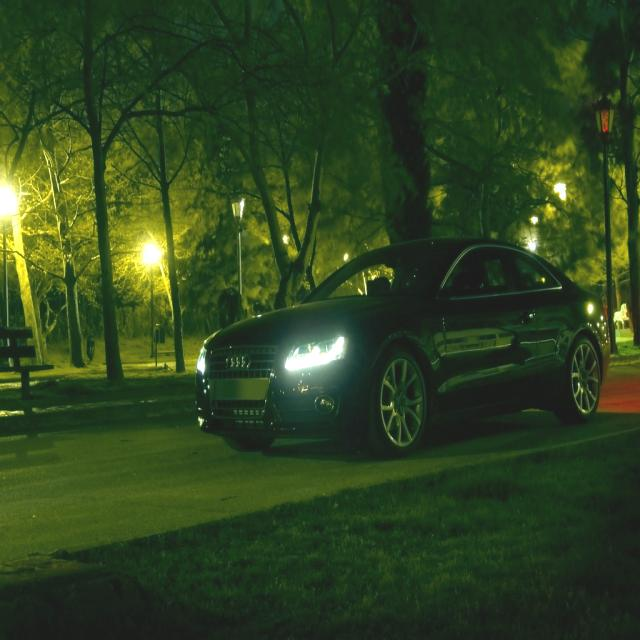Car: (198, 240, 610, 458)
